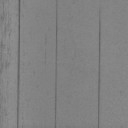surface scratch: (16, 0, 21, 128), (54, 0, 58, 128), (98, 0, 102, 128)
